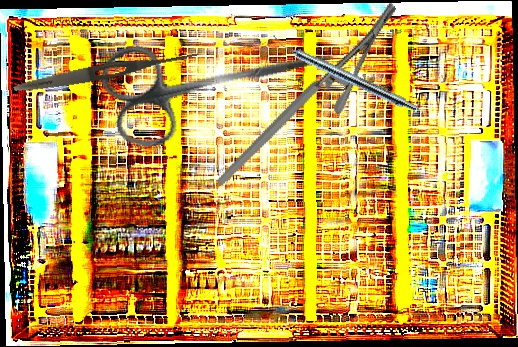Dressing Forceps: (12, 45, 202, 97)
Handpiece: (267, 33, 421, 115)
Iris Scissors: (95, 0, 349, 155)
Needle Holder: (180, 1, 432, 187)
